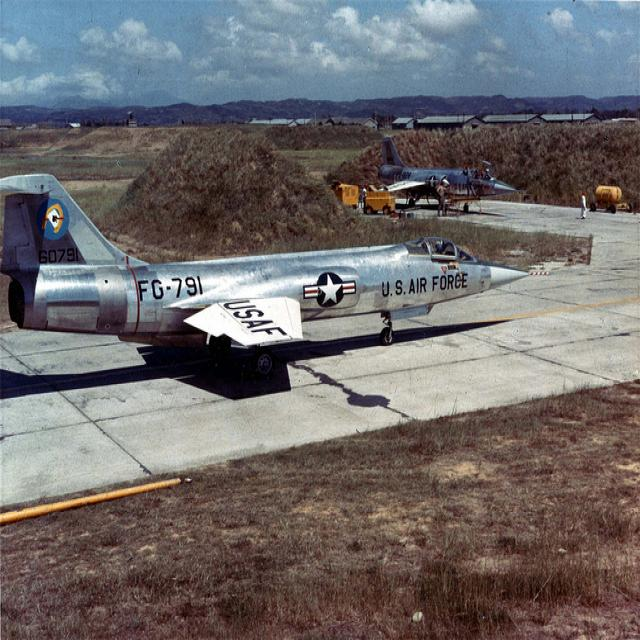Vehicle: (329, 180, 358, 209), (364, 192, 394, 214)
